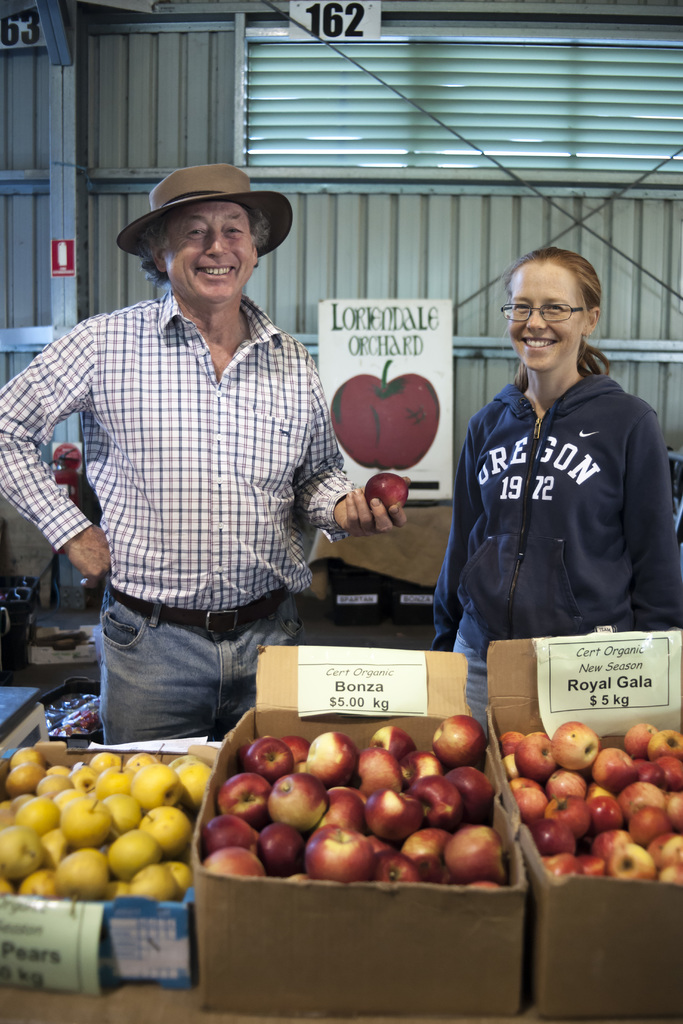Apple: (200, 712, 505, 887), (0, 745, 211, 899), (500, 716, 680, 883), (310, 817, 381, 893)
